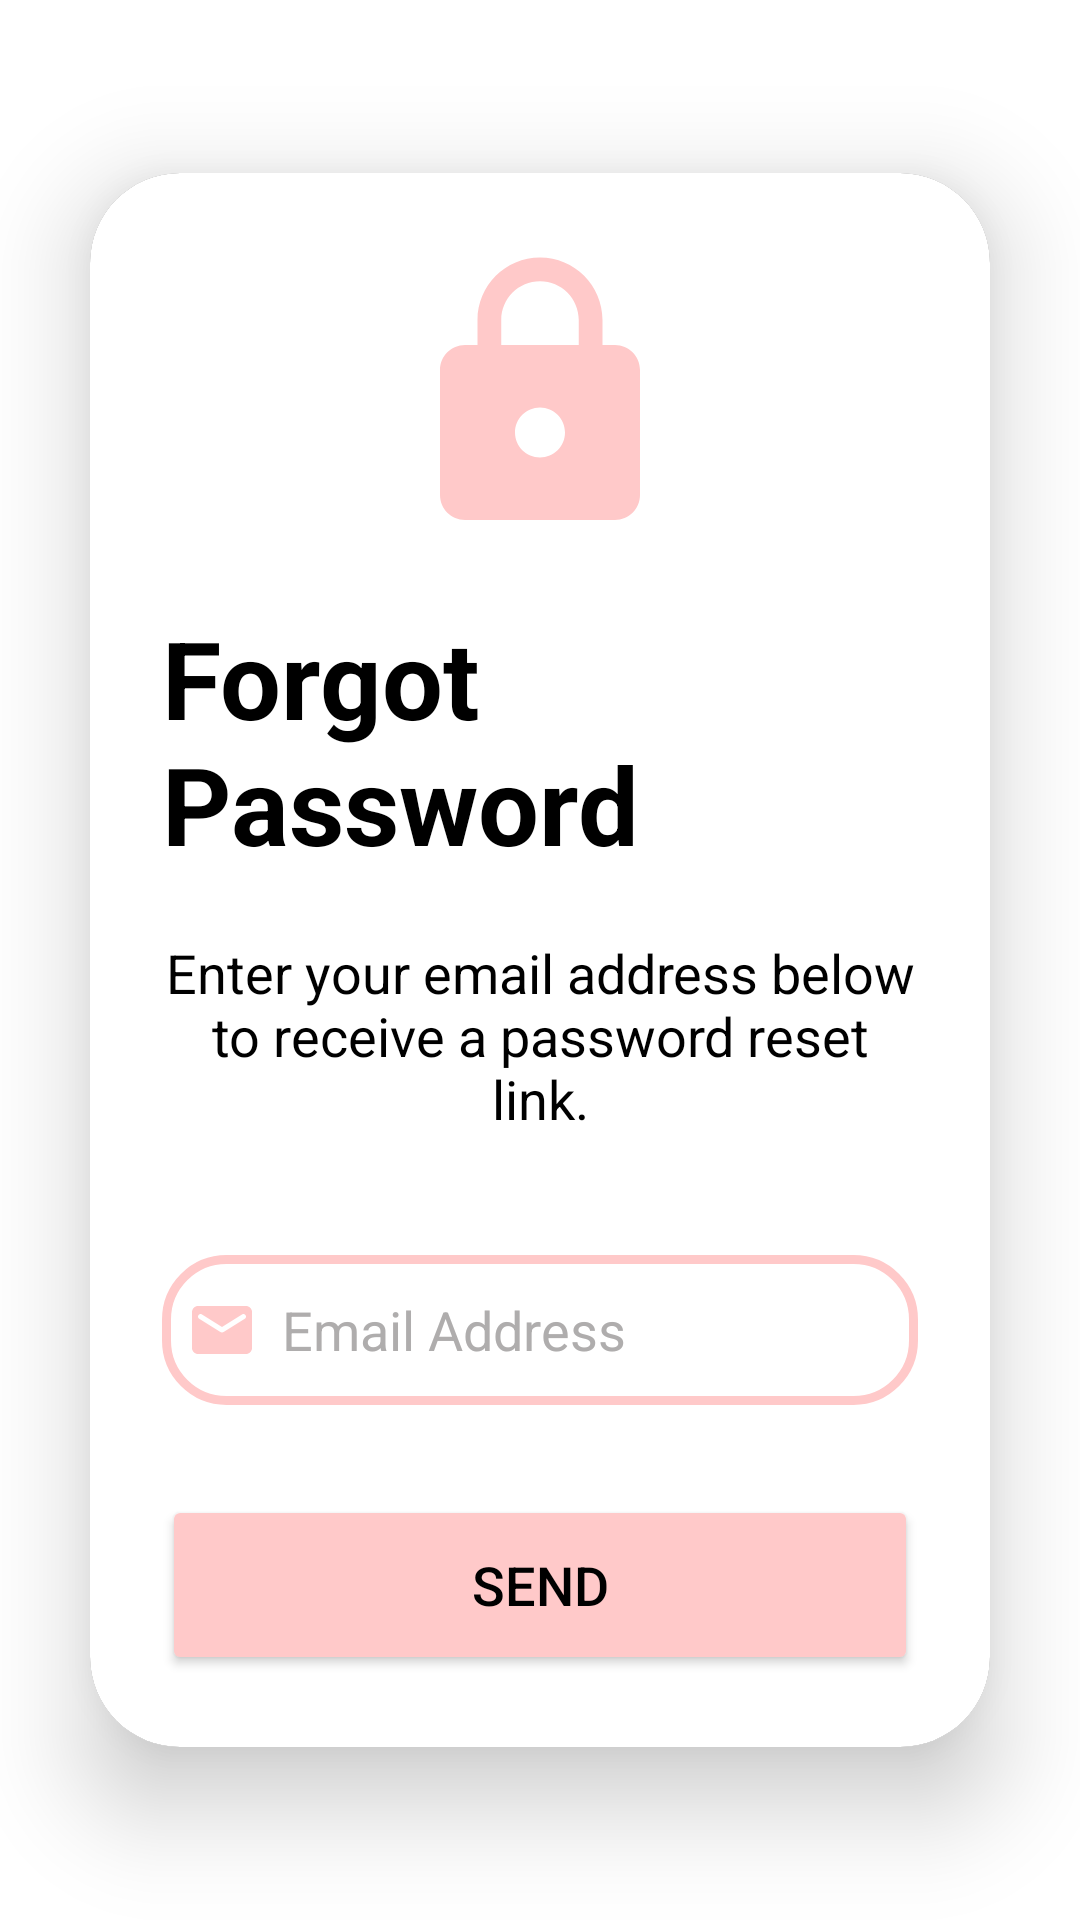

Icons on this 1080×1920 Android screen, each with its box as {"x1": x1, "y1": y1, "x2": x2, "y2": y2}:
lock: {"x1": 440, "y1": 257, "x2": 640, "y2": 520}
